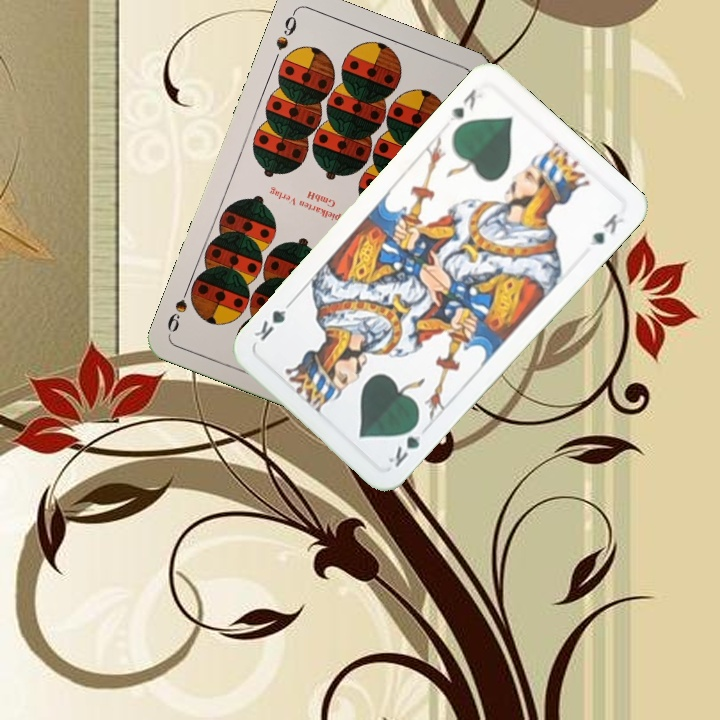GK: (384, 417, 423, 470), (446, 85, 486, 124)
S9: (271, 8, 300, 53)
